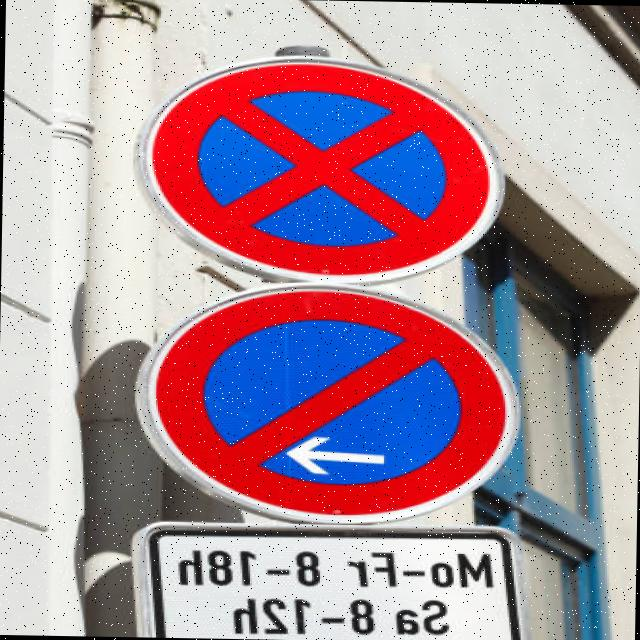no_parking: (132, 35, 495, 286)
